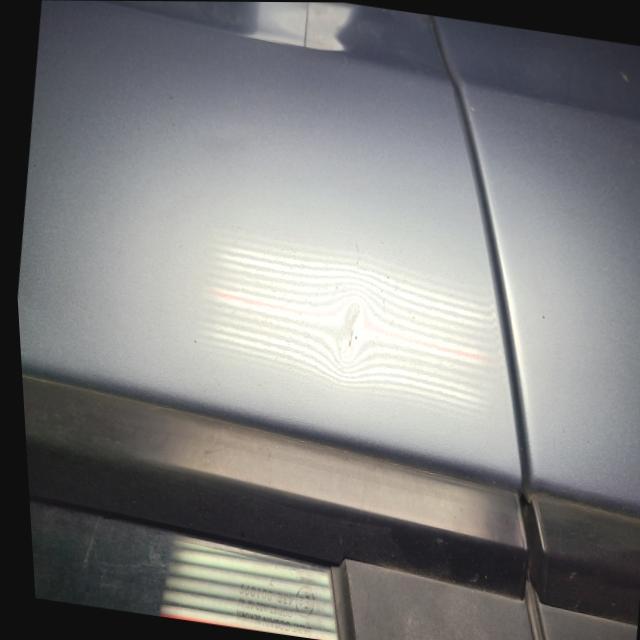PDR-Dent: (323, 286, 375, 378)
Scratch: (348, 328, 354, 350), (355, 336, 358, 340)
